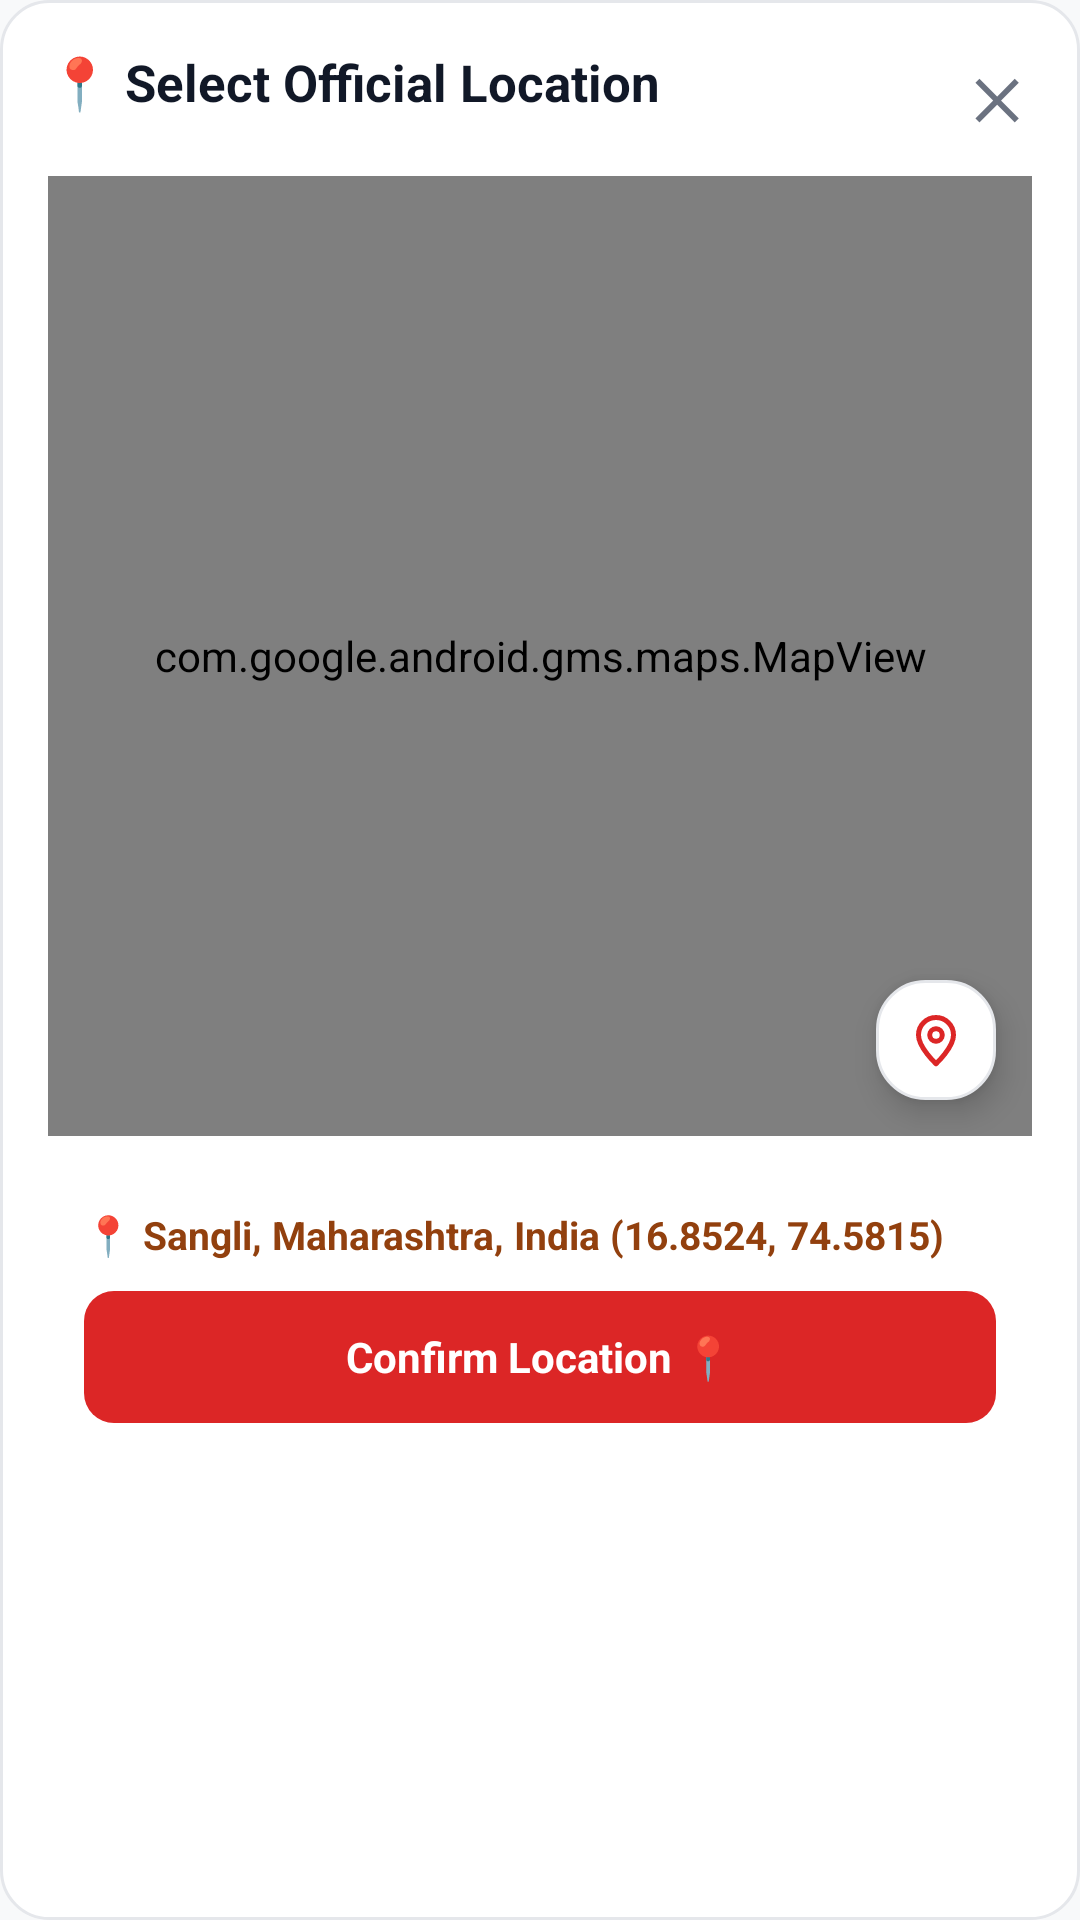

Icons on this 1080px x 1920px Android screen, each with the point to tap as point (x, y):
My Location: point (936, 1041)
